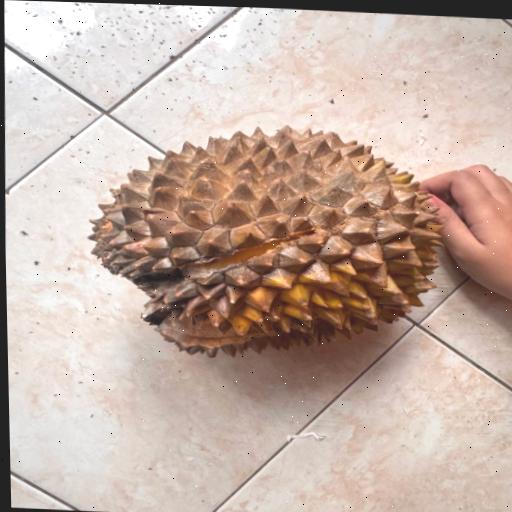rot: (67, 75, 463, 395)
